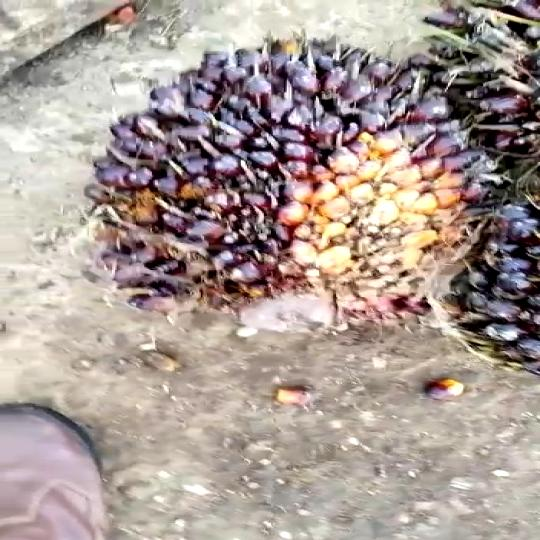kurang masak: (87, 23, 504, 331)
